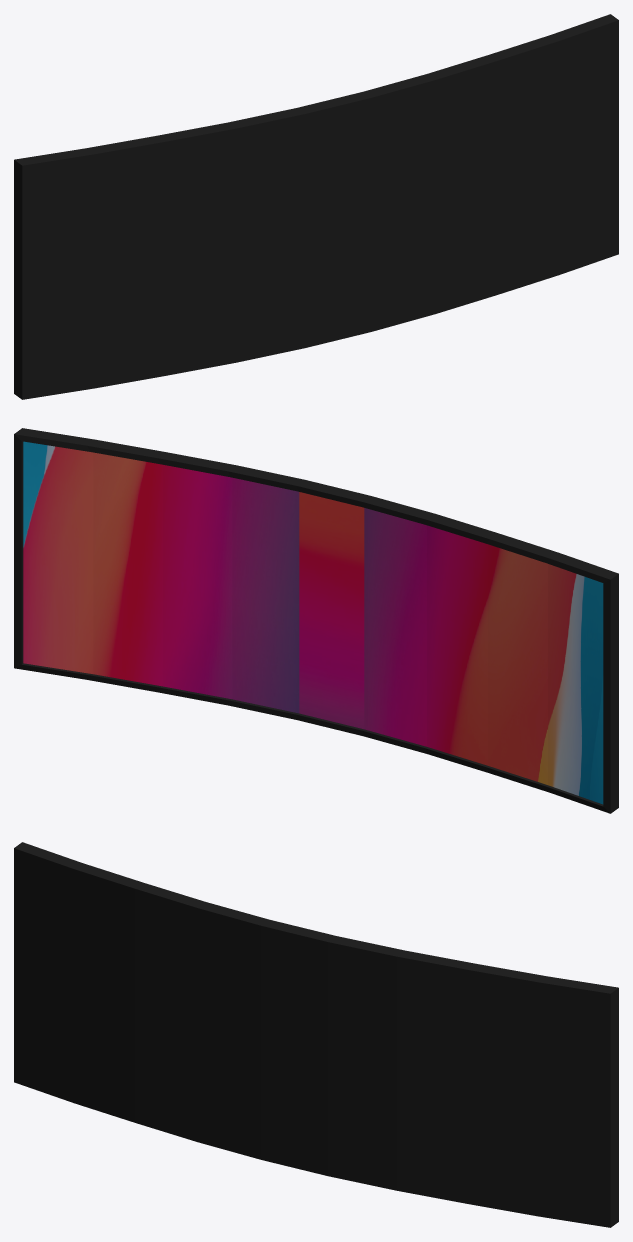
Rendered from monitor-34.gltf.
3 views of the same model, one above another, from view 1: azimuth 30°, elevation 25°; view 2: azimuth 150°, elevation 25°; view 3: azimuth 330°, elevation 25° (orthographic).
Parts seen in each view (by area): view 1: monitor-49inches.001; view 2: monitor-49inches.001; view 3: monitor-49inches.001.
Part boxes in pixels (left/top/right/bottom): monitor-49inches.001: left=14, top=14, right=618, bottom=399; monitor-49inches.001: left=14, top=428, right=618, bottom=813; monitor-49inches.001: left=14, top=842, right=618, bottom=1227.
Bounding box in the file's own units: 1.2 × 0.45 × 0.0907.
Materials: 2 (1 with a texture image).
